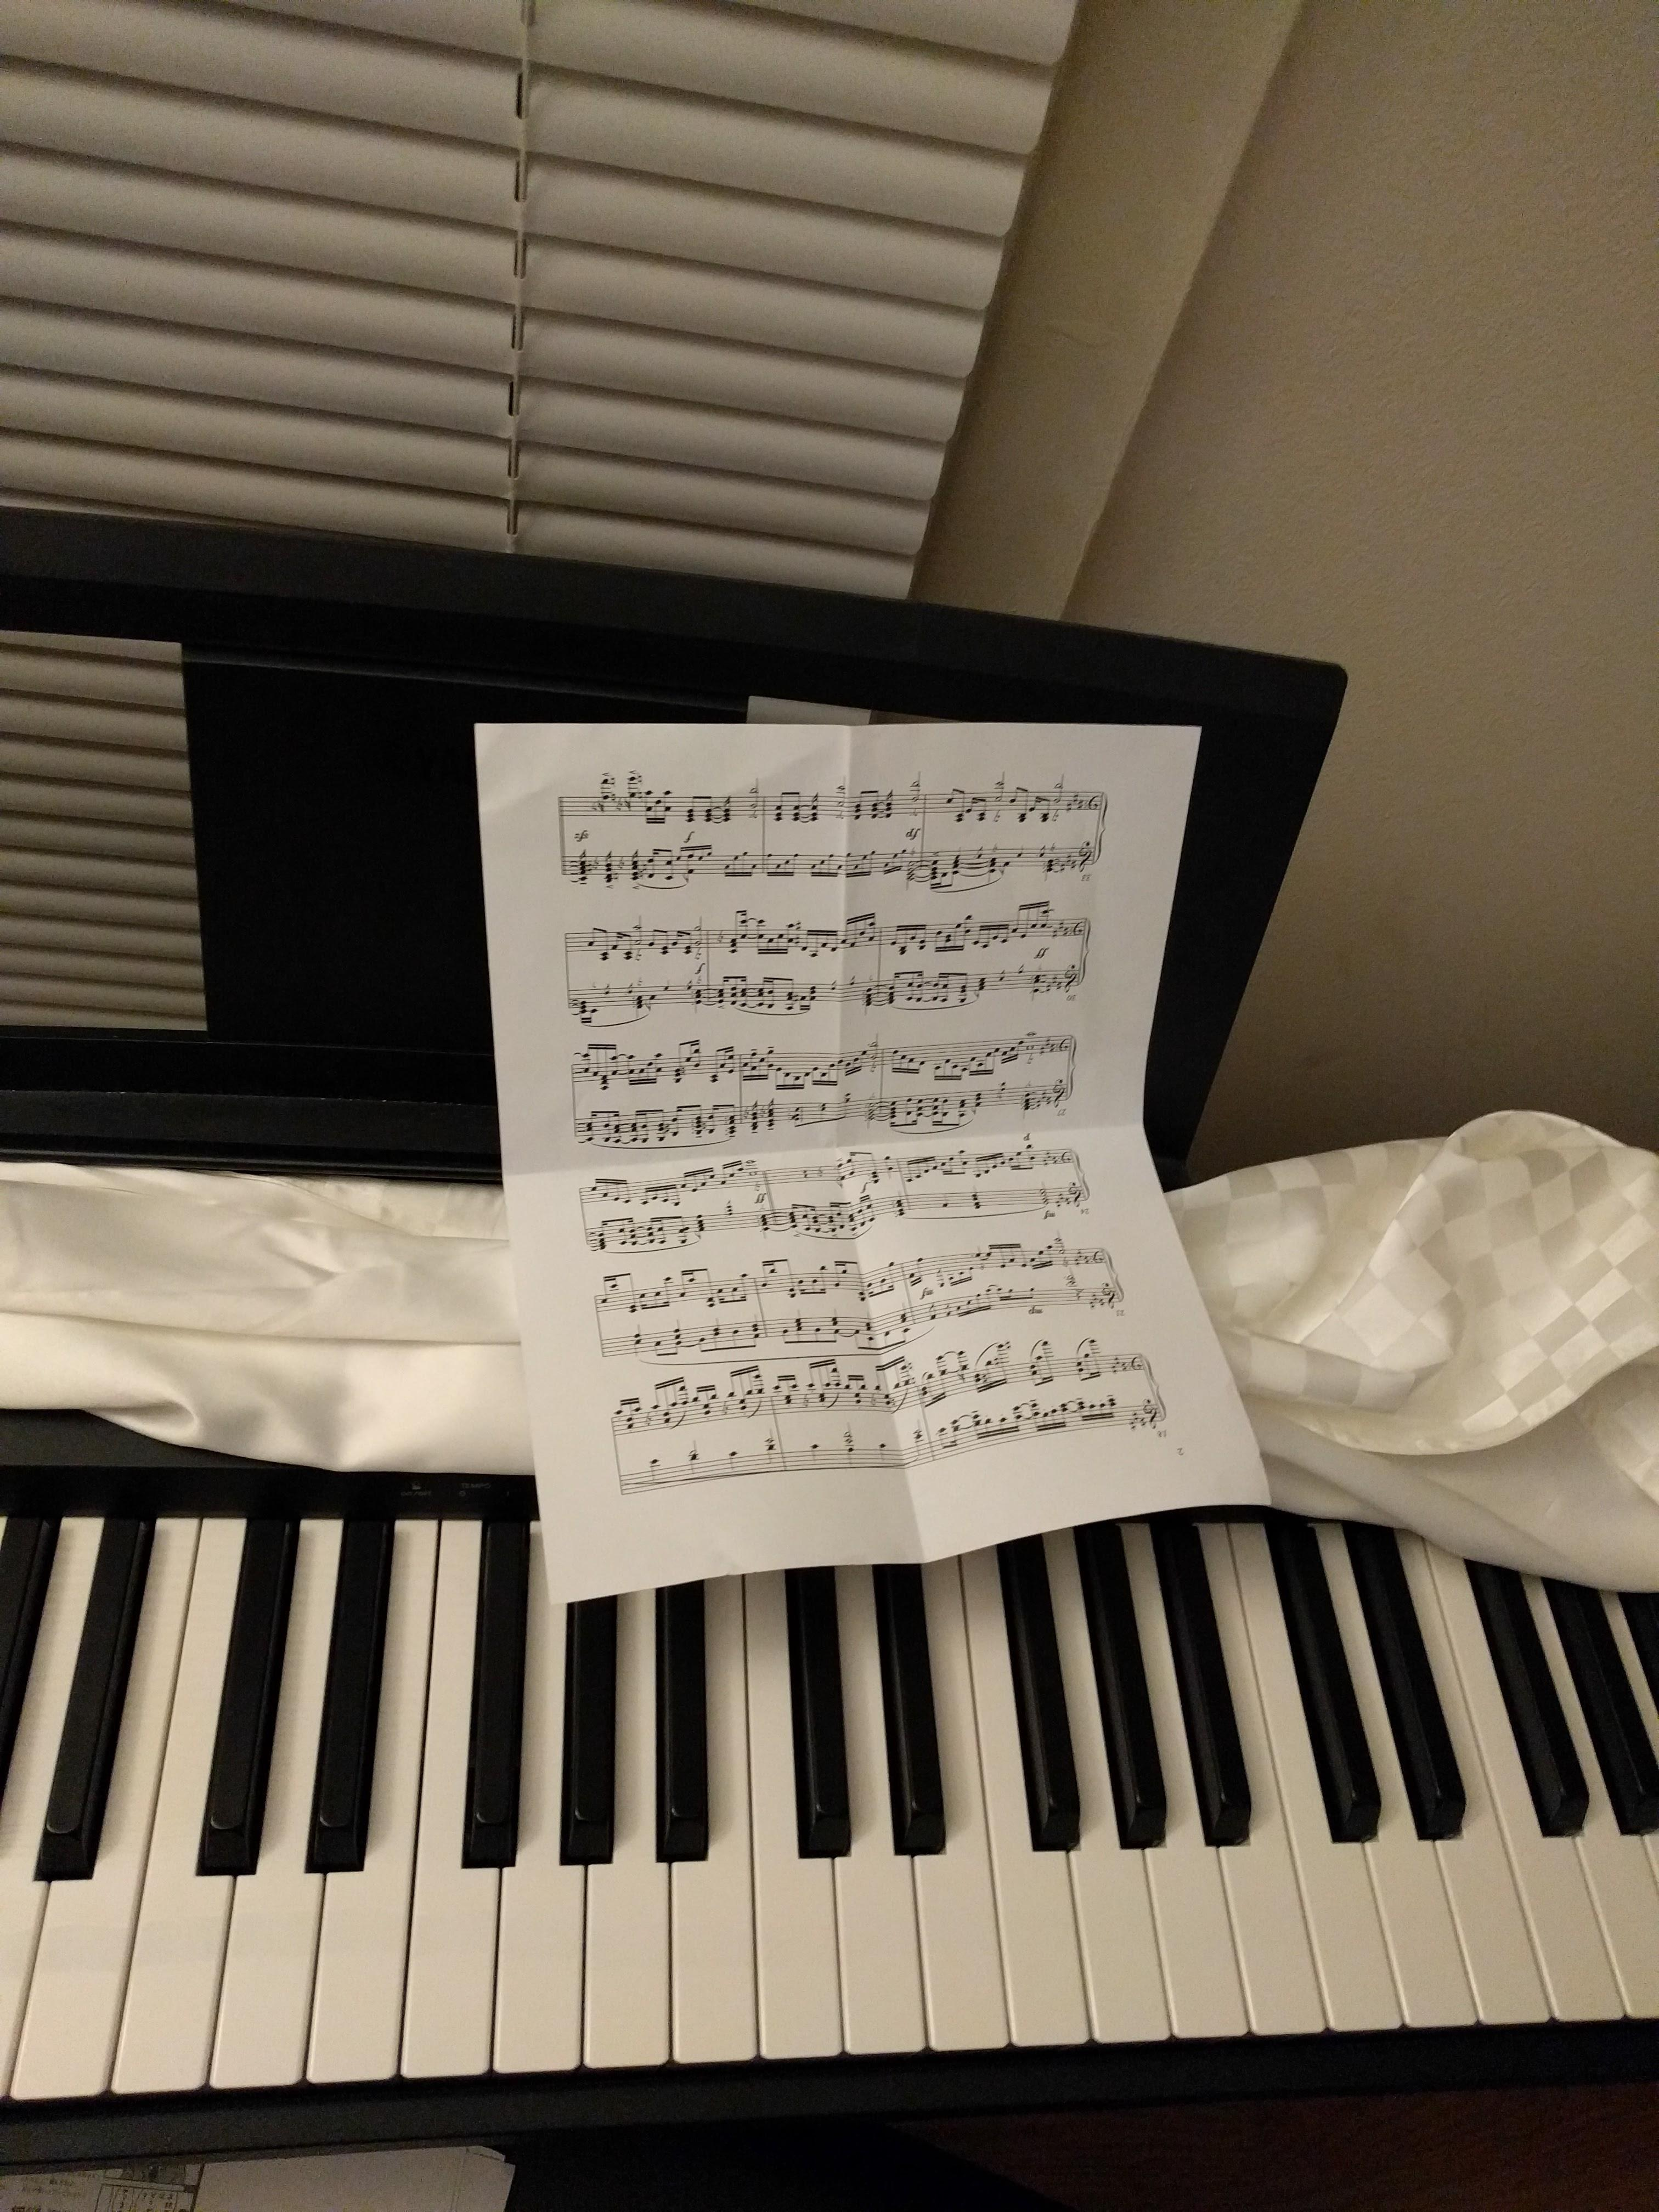paper: (378, 669, 1391, 1703)
